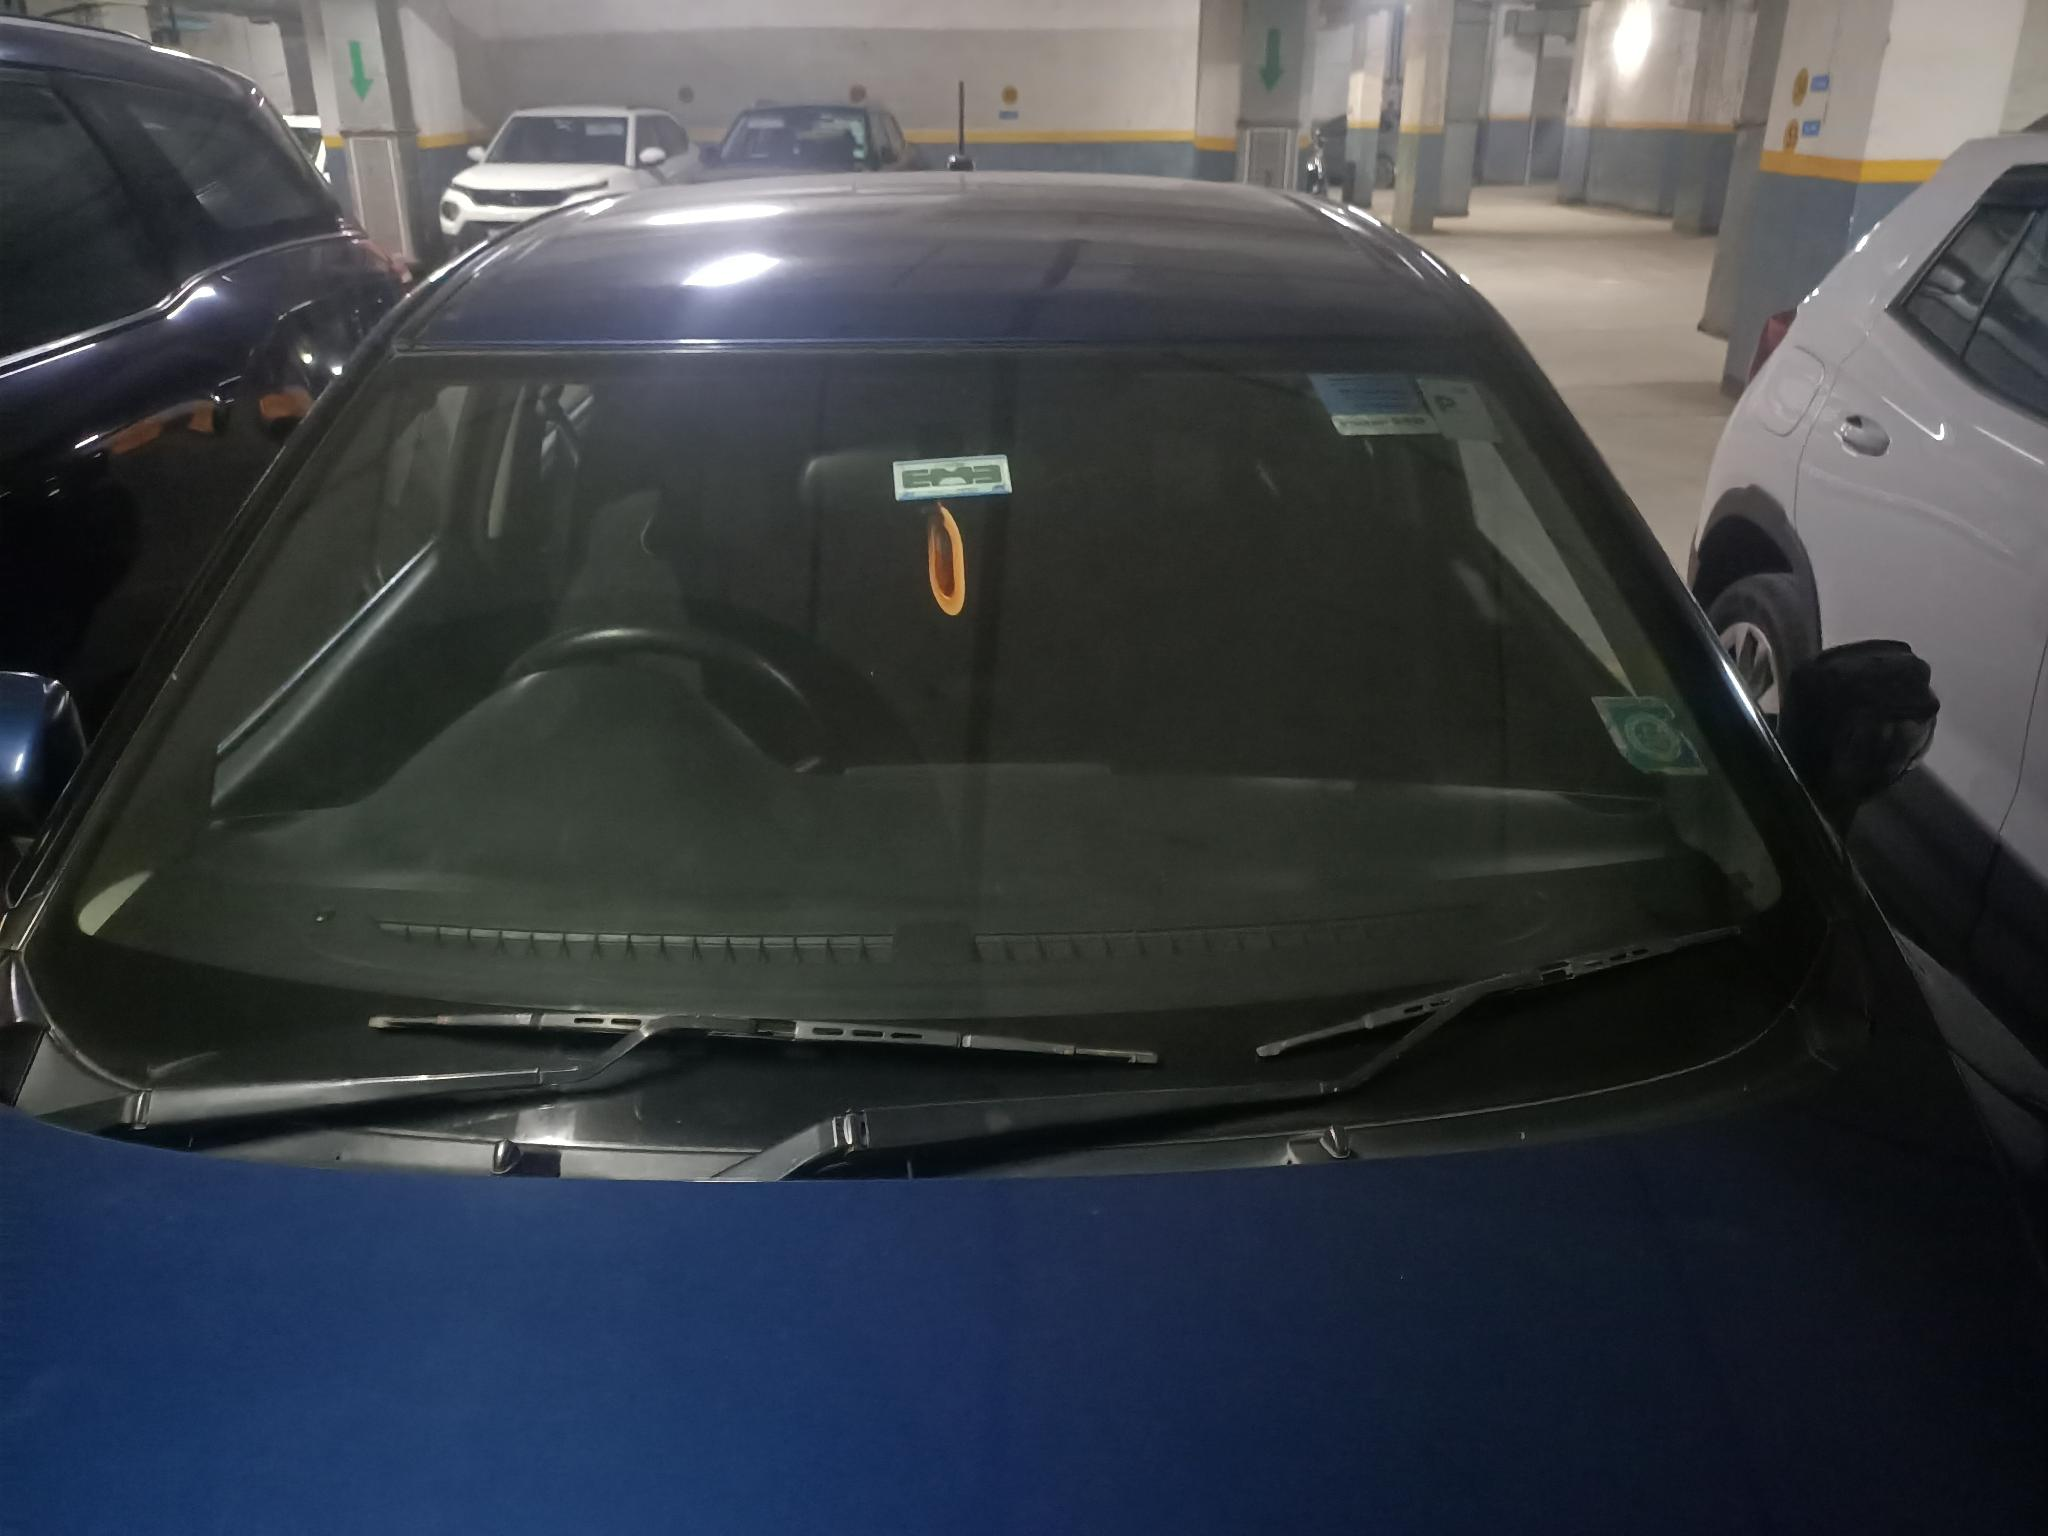FastTag: (872, 432, 1029, 518)
not a FastTag: (1587, 681, 1708, 783), (1317, 376, 1438, 455), (1414, 374, 1513, 452)
